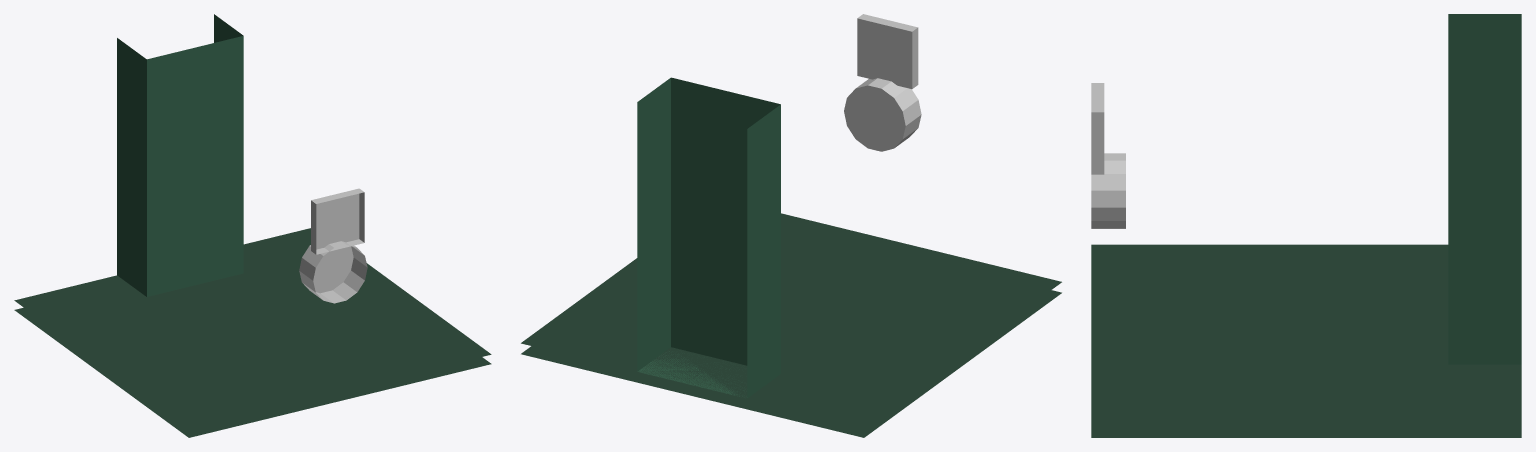
The model's file is cell_18.obj.
The picture shows the model from 3 angles, left to right: view 1: azimuth 30°, elevation 25°; view 2: azimuth 150°, elevation 25°; view 3: azimuth 270°, elevation 25°; orthographic projection. The views are drawn at different scales.
Bounding box in the file's own units: 1 × 0.78 × 1.
